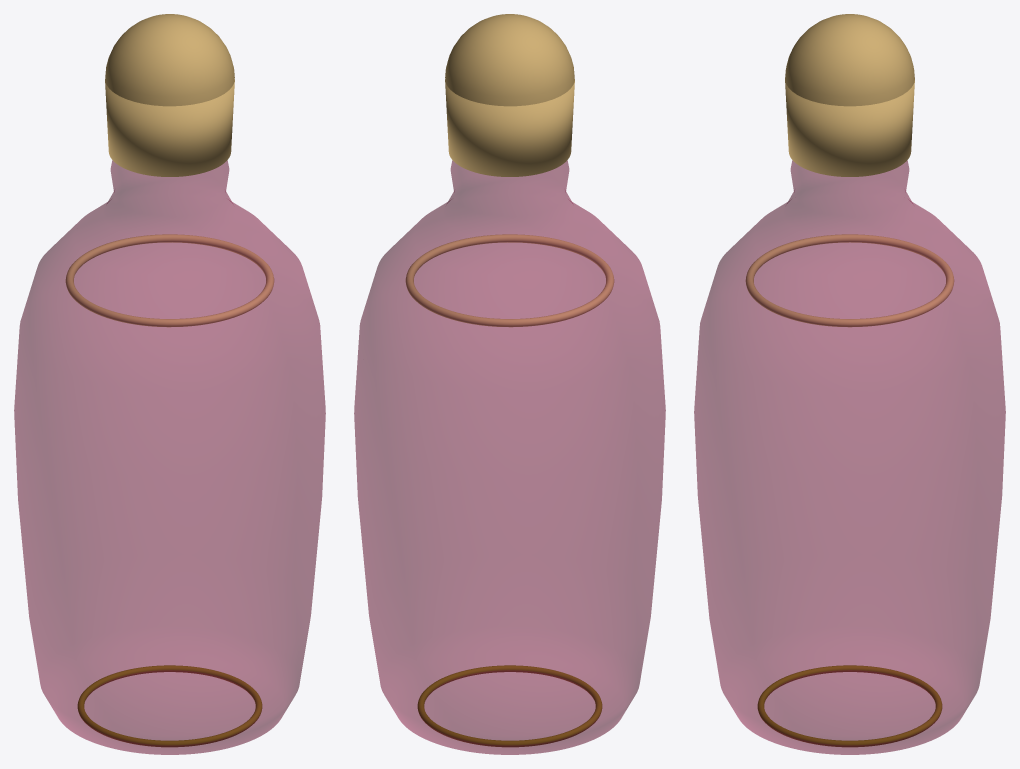
The model's file is velours.glb.
The picture shows the model from 3 angles, left to right: view 1: azimuth 30°, elevation 25°; view 2: azimuth 150°, elevation 25°; view 3: azimuth 270°, elevation 25°; orthographic projection.
Visible parts, largest first — view 1: velours; view 2: velours; view 3: velours.
Part boxes in pixels (x1,y1,x2,y2): velours: [14, 14, 325, 754]; velours: [354, 14, 665, 754]; velours: [694, 14, 1005, 754].
Size of the model in its own units: 1.68 by 4.1 by 1.68.
